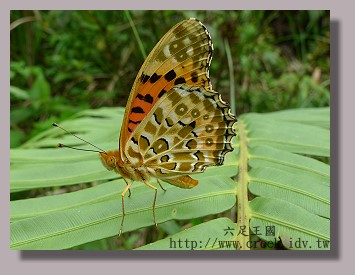Argyreus hyperbius: (49, 17, 242, 240)
butterfly: (47, 15, 240, 238)
